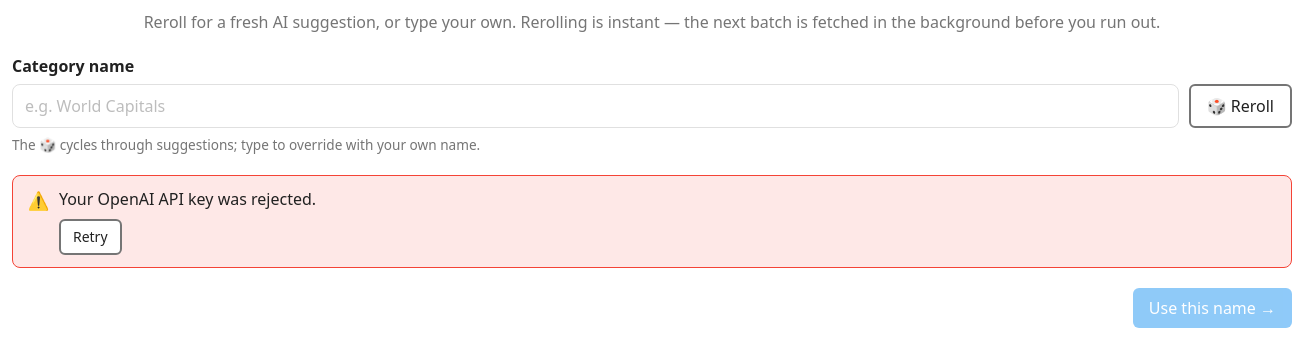
it: CategoryNameStep › shows an inline error with a working Retry when generation fails
Expected: the message shows "key was rejected", [59,188,316,210]
Click the button "Retry".
click(90, 237)  # box [59,219,122,255]
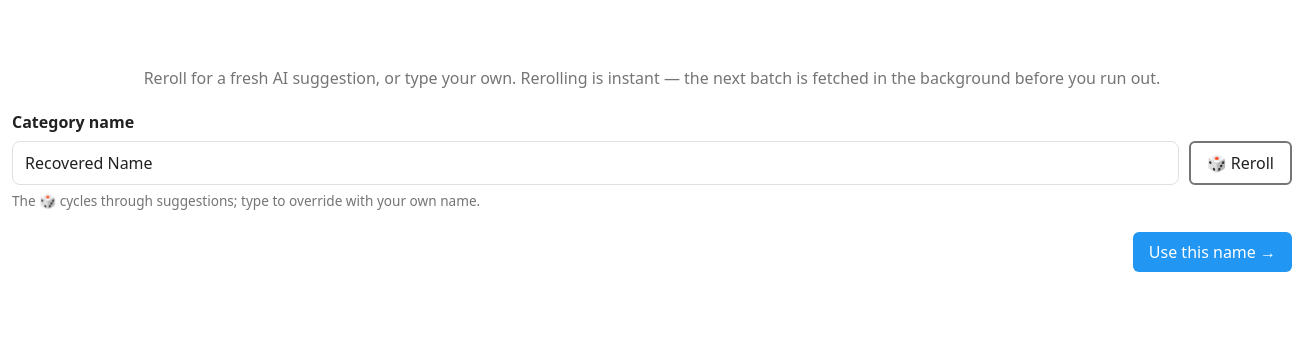
Expected: the field labelled "Category name" holds "Recovered Name", [12,141,1179,185]
Expected: the message "⚠️ Your OpenAI API key was rejected. Retry" is gone
